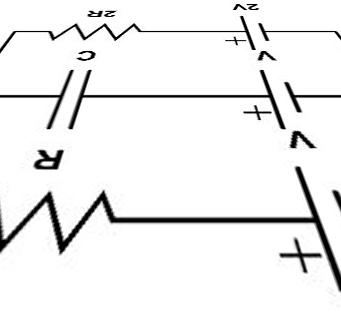resistor: (0, 185, 131, 251), (27, 16, 141, 52)
